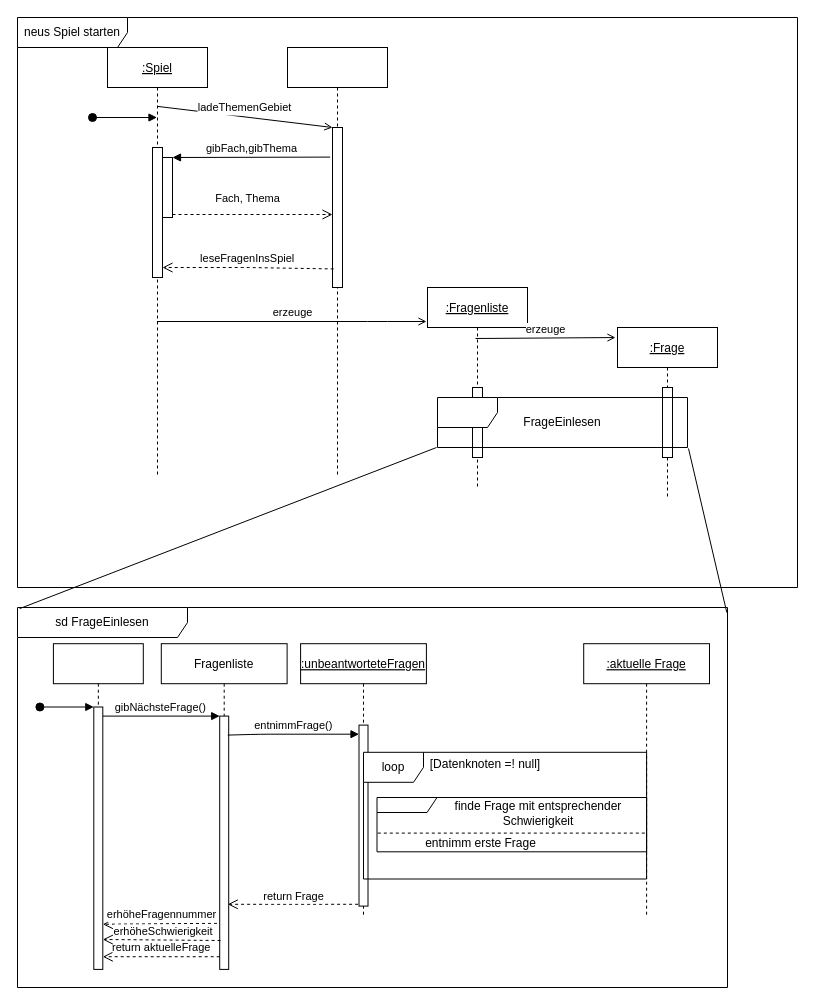
The diagram is 815 pixels wide and 1005 high, and some of its shapes have lost their labels. Here are the shapes that lost their labels. From the top down, the box of each, then its label:
(286, 46, 388, 478): :Themengebiet
(436, 396, 688, 448): ref
(52, 643, 143, 969): Spiel
(376, 796, 647, 852): alt
